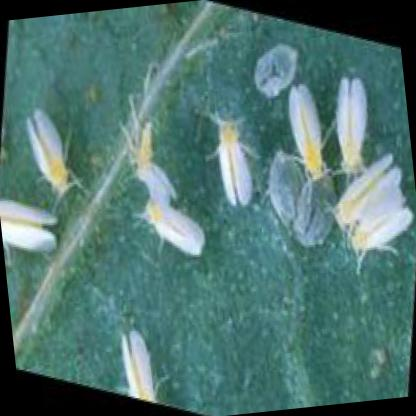whitefly: (25, 108, 68, 195), (147, 207, 204, 259), (289, 86, 322, 175), (221, 127, 250, 208)
